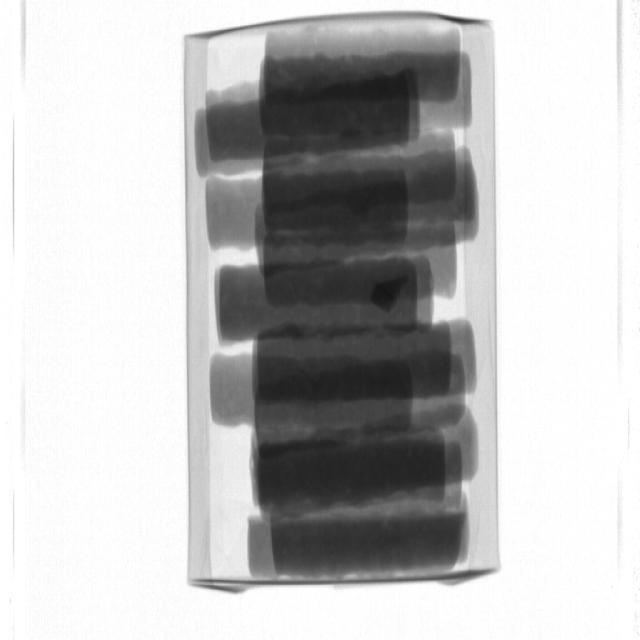ym: (372, 276, 403, 313)
